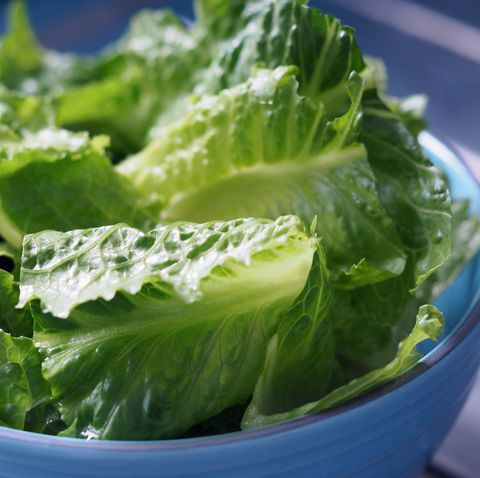chopped lettuce: (50, 89, 370, 384)
